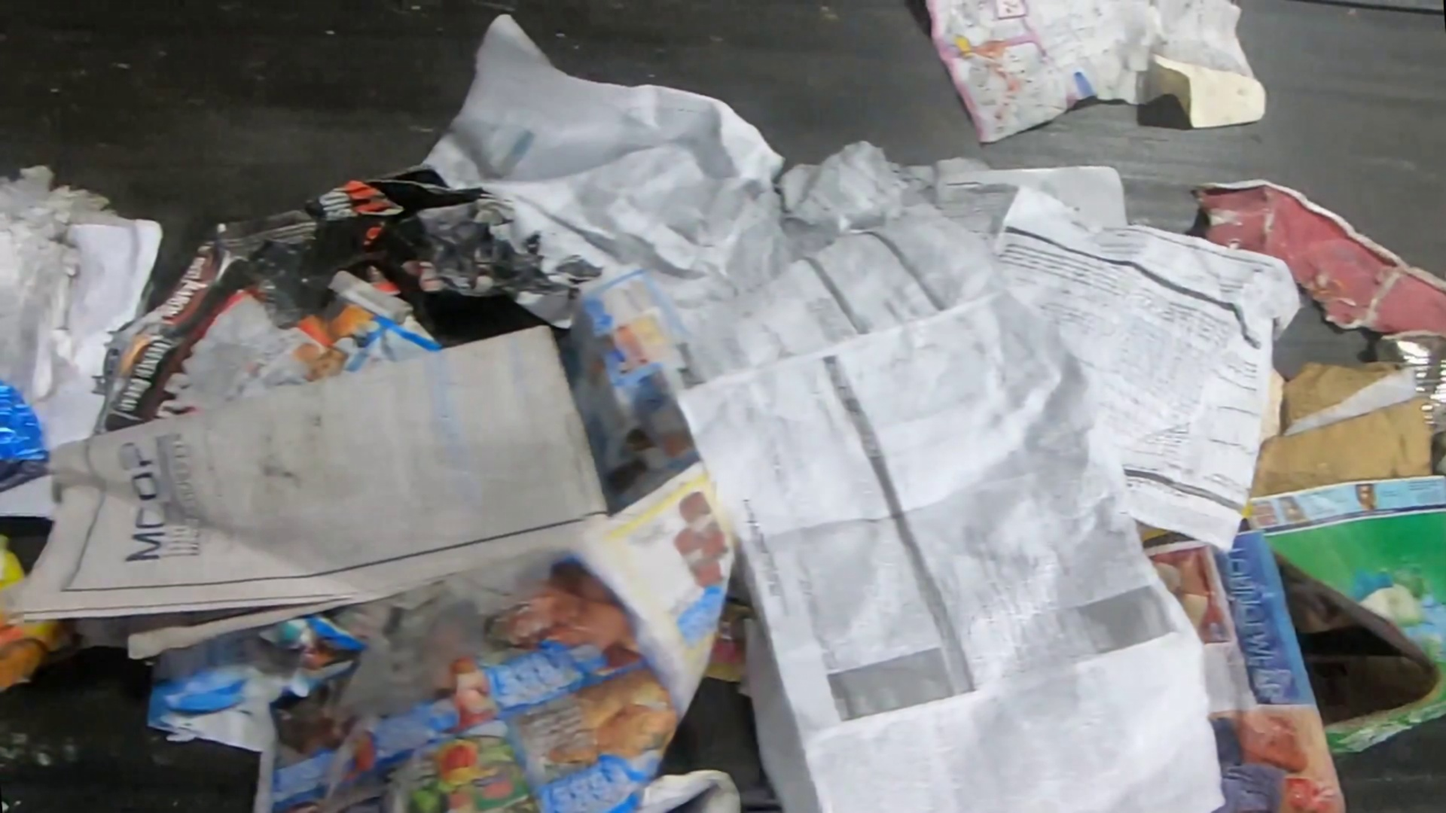cardboard: (1190, 178, 1446, 337), (141, 611, 378, 755), (1248, 360, 1434, 500)
metal: (1375, 332, 1446, 436), (0, 375, 50, 463)
